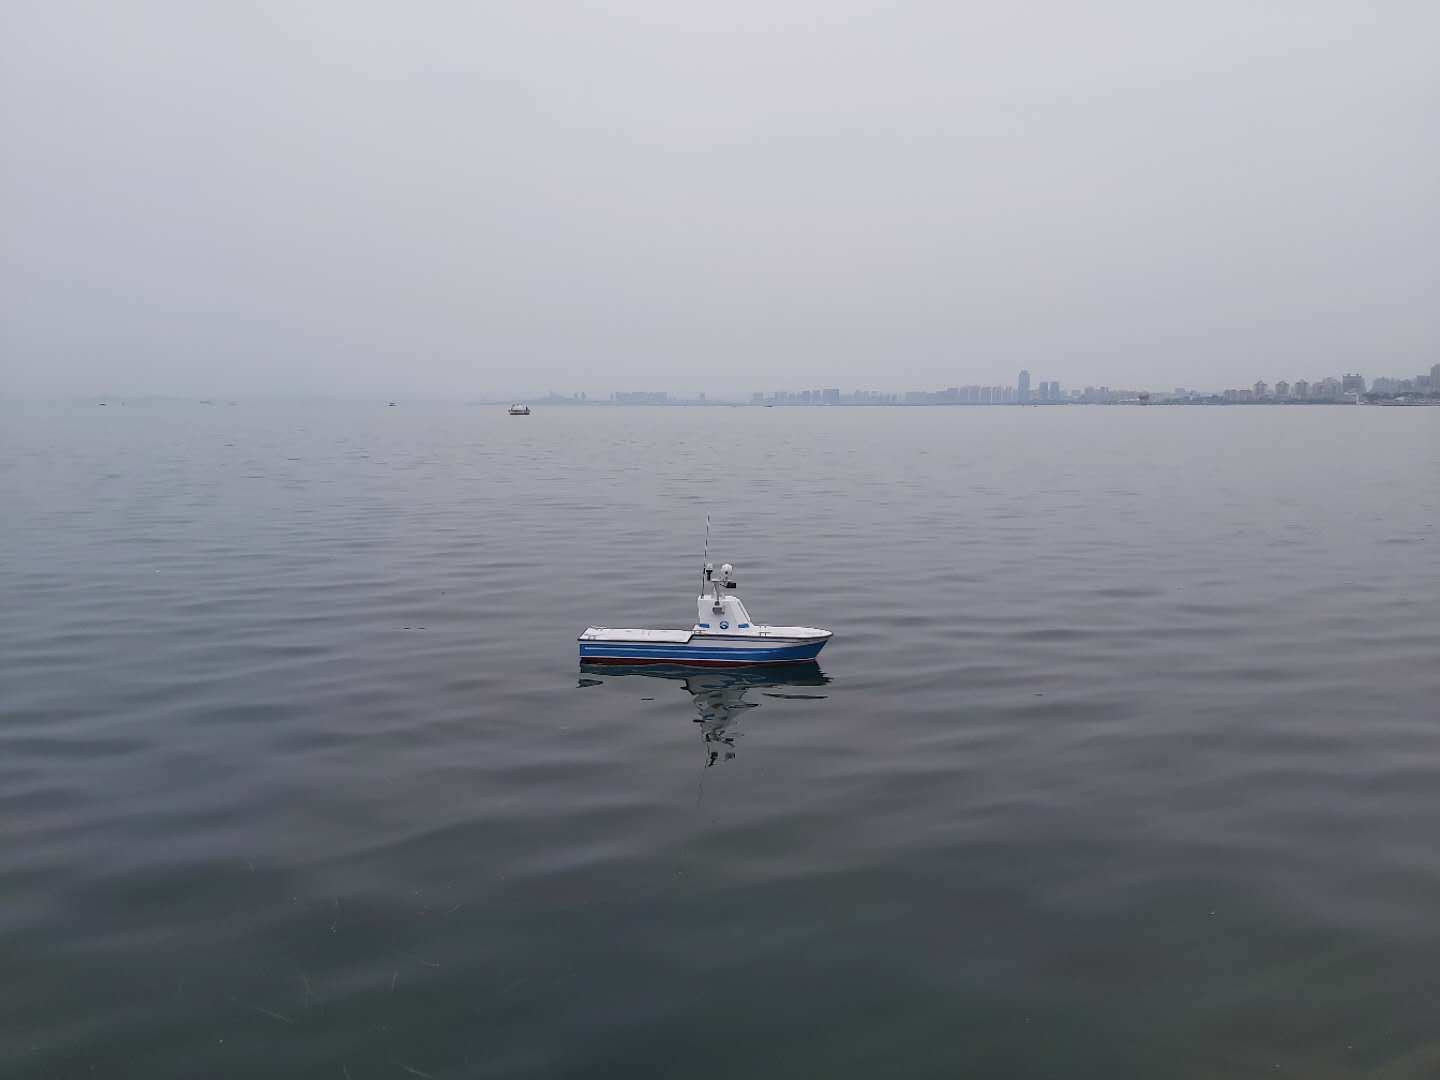boat: (570, 562, 848, 687), (498, 397, 544, 419)
